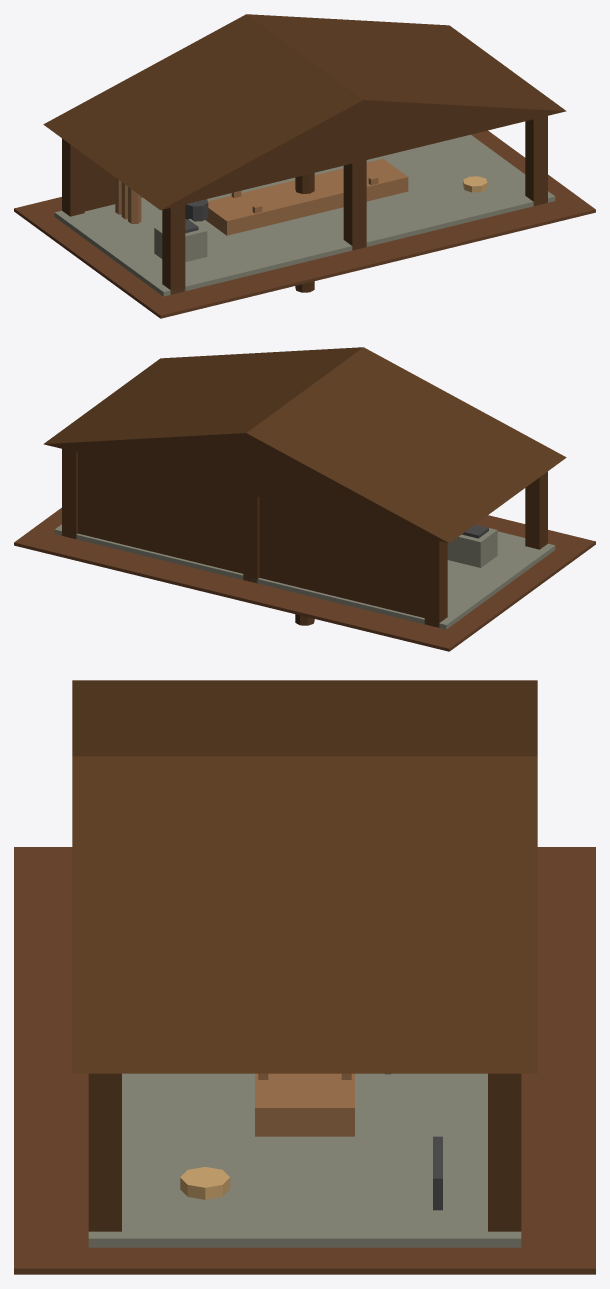
File: siege_workshop.glb
The picture shows the model from 3 angles, top to bottom: view 1: azimuth 30°, elevation 25°; view 2: azimuth 150°, elevation 25°; view 3: azimuth 270°, elevation 25°; orthographic projection. The views are drawn at different scales.
Visible parts, largest first — view 1: Roof, Foundation, Ground, RamCradle, Post_0, Post_4, Post_2, BackWall, Post_1, Forge, Ram, RamHead (+1 smaller); view 2: Roof, BackWall, Ground, Foundation, Post_1, Post_0, Post_5, Forge, Post_3; view 3: Roof, Ground, Foundation, RamCradle, Post_2, Post_3, BackWall, Rope1.
Part boxes in pixels (x1,y1,x2,y2): Roof: (43,14,566,210); Foundation: (54,134,555,296); Ground: (14,130,595,318); RamCradle: (205,159,408,235); Post_0: (162,204,185,294); Post_4: (343,160,366,250); Post_2: (525,116,547,205); BackWall: (63,140,142,213); Post_1: (62,138,84,216); Forge: (154,219,207,261); Ram: (295,173,314,292); RamHead: (185,199,208,221); Roof: (43,347,566,543); BackWall: (78,453,445,619); Ground: (14,507,595,651); Foundation: (54,524,555,629); Post_1: (424,537,447,627); Post_0: (525,471,547,549); Post_5: (243,493,259,583); Forge: (447,528,497,567); Post_3: (62,449,77,538); Roof: (72,680,537,1073); Ground: (14,847,595,1274); Foundation: (88,1073,521,1247); RamCradle: (255,1073,354,1136); Post_2: (88,1073,121,1231); Post_3: (488,1073,521,1231); BackWall: (494,1073,514,1231); Rope1: (180,1167,230,1199).
Bounding box in the file's own units: 6 × 3.05 × 3.5.
